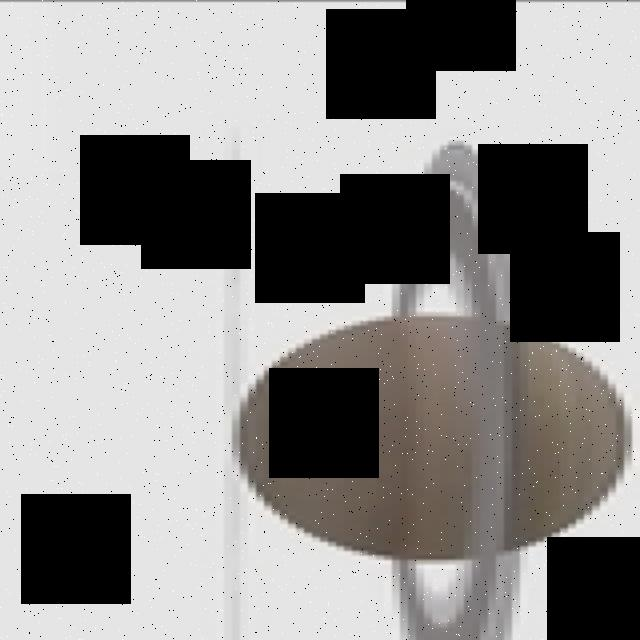Saturn: (232, 140, 640, 640)
